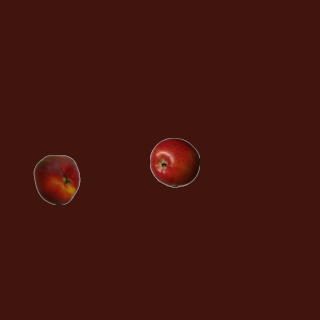Apple Braeburn: (149, 137, 199, 187)
Nectarine Flat: (31, 154, 81, 204)
